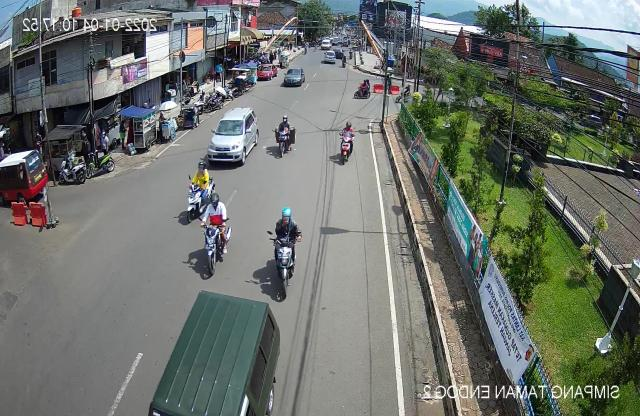Mobil: (146, 284, 282, 416), (203, 105, 261, 166), (0, 147, 50, 207), (281, 66, 306, 89)
Motor: (263, 206, 304, 301), (197, 191, 239, 281), (178, 160, 213, 224), (85, 144, 115, 186), (271, 115, 298, 159), (56, 151, 88, 185), (336, 120, 356, 164), (353, 78, 371, 101)
